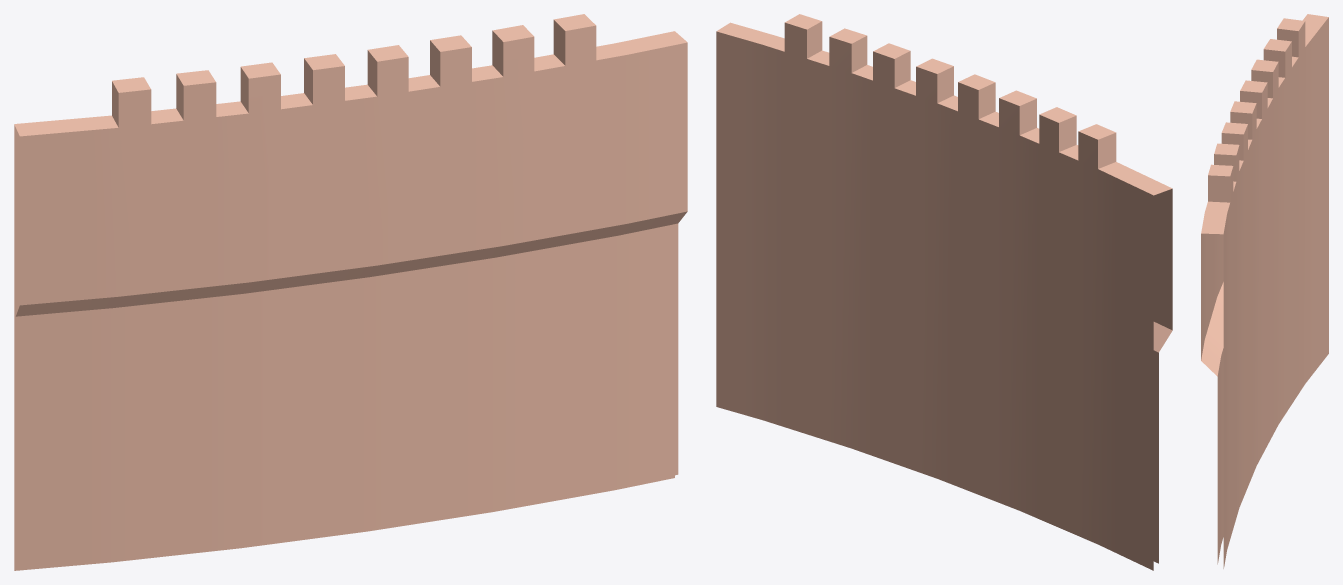
Rendered from Castillo_TrozoParedExterior.fbx.
3 views of the same model, side by side, from view 1: azimuth 30°, elevation 25°; view 2: azimuth 150°, elevation 25°; view 3: azimuth 270°, elevation 25° (orthographic). The views are drawn at different scales.
Visible parts, largest first — view 1: Castillo_TrozoParedExterior; view 2: Castillo_TrozoParedExterior; view 3: Castillo_TrozoParedExterior.
Part boxes in pixels (x1,y1,x2,y2): Castillo_TrozoParedExterior: [14, 14, 687, 570]; Castillo_TrozoParedExterior: [716, 14, 1172, 570]; Castillo_TrozoParedExterior: [1201, 14, 1328, 568].
Bounding box in the file's own units: 8693 × 6679 × 2131.
